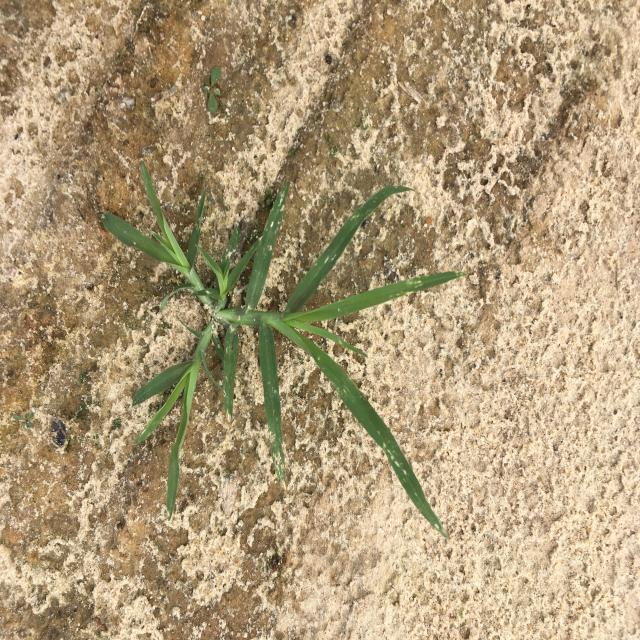Carpetweed: (202, 66, 221, 113)
Goosegrass: (100, 161, 466, 538)
